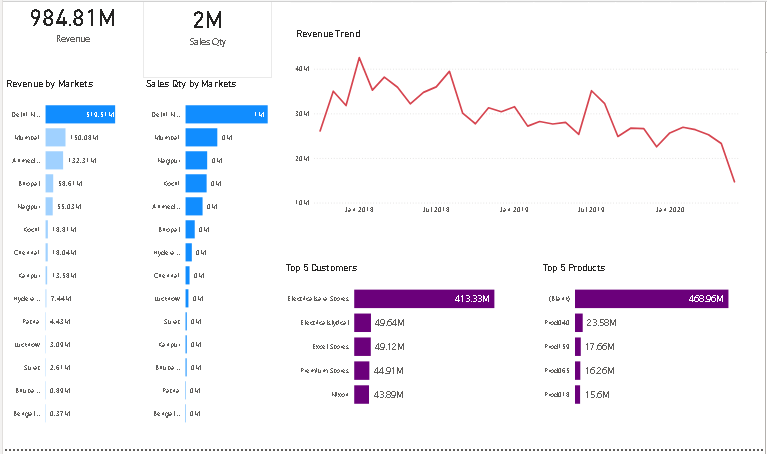

The page's visual inventory and layout, read from the dashboard file:
{"tool":"powerbi","page":{"name":"Key Insights","canvas":[1350,850],"ordinal":0},"visuals":[{"type":"card","fields":{"Values":["BaseMeasures (2).Revenue"]},"box":[0,0,247.9,184.6],"z":0},{"type":"card","fields":{"Values":["BaseMeasures (2).Sales Qty"]},"box":[247.9,0,227.9,193.1],"z":1000},{"type":"barChart","title":"Revenue by Markets","fields":{"Y":["BaseMeasures (2).Revenue"],"Category":["sales markets.markets_name"]},"box":[0,193.1,247.9,631.9],"z":2000},{"type":"barChart","title":"Sales Qty by Markets","fields":{"Y":["BaseMeasures (2).Sales Qty"],"Category":["sales markets.markets_name"]},"box":[247.9,193.1,247.9,631.9],"z":3000},{"type":"slicer","fields":{"Values":["sales date.year"]},"box":[483.2,0,335.5,66.5],"z":4000},{"type":"slicer","fields":{"Values":["sales date.cy_date"]},"box":[818.6,0,531.7,66.5],"z":5000},{"type":"barChart","title":"Top 5 Customers","fields":{"Y":["BaseMeasures (2).Revenue"],"Category":["sales customers.custmer_name"]},"box":[495.8,519,446.2,274.3],"z":6000},{"type":"barChart","title":"Top 5 Products","fields":{"Y":["BaseMeasures (2).Revenue"],"Category":["sales products.product_code"]},"box":[950.7,519.2,399.5,282.8],"z":7000},{"type":"lineChart","title":"Revenue Trend","fields":{"Y":["BaseMeasures (2).Revenue"],"Category":["sales date.cy_date"]},"box":[513.8,104.4,809.1,338.6],"z":8000}]}

Visuals, with their boxes on the page's 1350x850 design canvas (x1, y1, x2, y2). These are canvas units, not pixel positions in the 767x454 screenshot, which may show the page scaled, cropped or inside an application window:
card - BaseMeasures (2).Revenue: <box>0,0,248,185</box>
card - BaseMeasures (2).Sales Qty: <box>248,0,476,193</box>
"Revenue by Markets" barChart: <box>0,193,248,825</box>
"Sales Qty by Markets" barChart: <box>248,193,496,825</box>
slicer - sales date.year: <box>483,0,819,66</box>
slicer - sales date.cy_date: <box>819,0,1350,66</box>
"Top 5 Customers" barChart: <box>496,519,942,793</box>
"Top 5 Products" barChart: <box>951,519,1350,802</box>
"Revenue Trend" lineChart: <box>514,104,1323,443</box>
